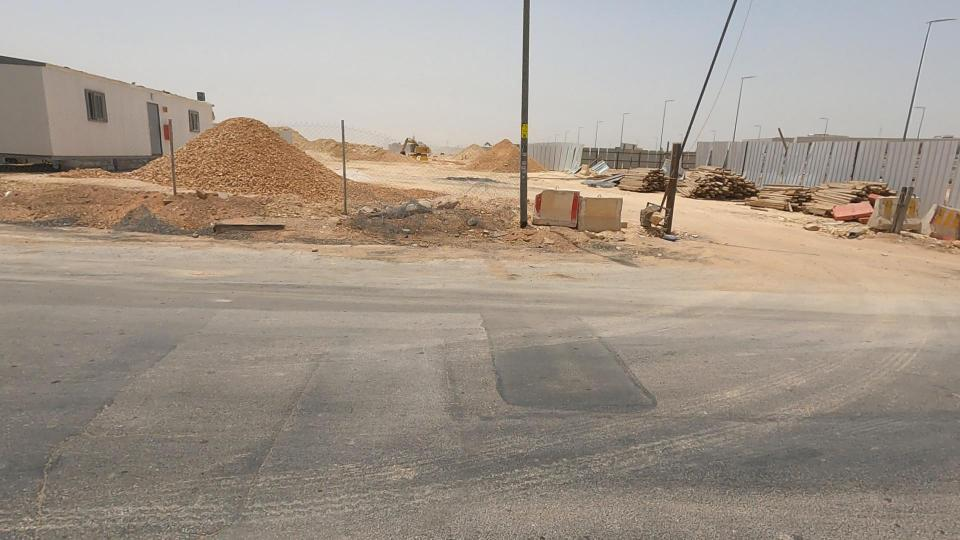GARBAGE: (792, 171, 920, 253), (552, 133, 655, 217)
SAND_ON_ROAD: (113, 85, 397, 260)
